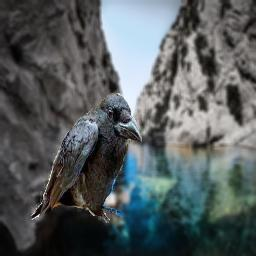Crow: (30, 93, 142, 223)
